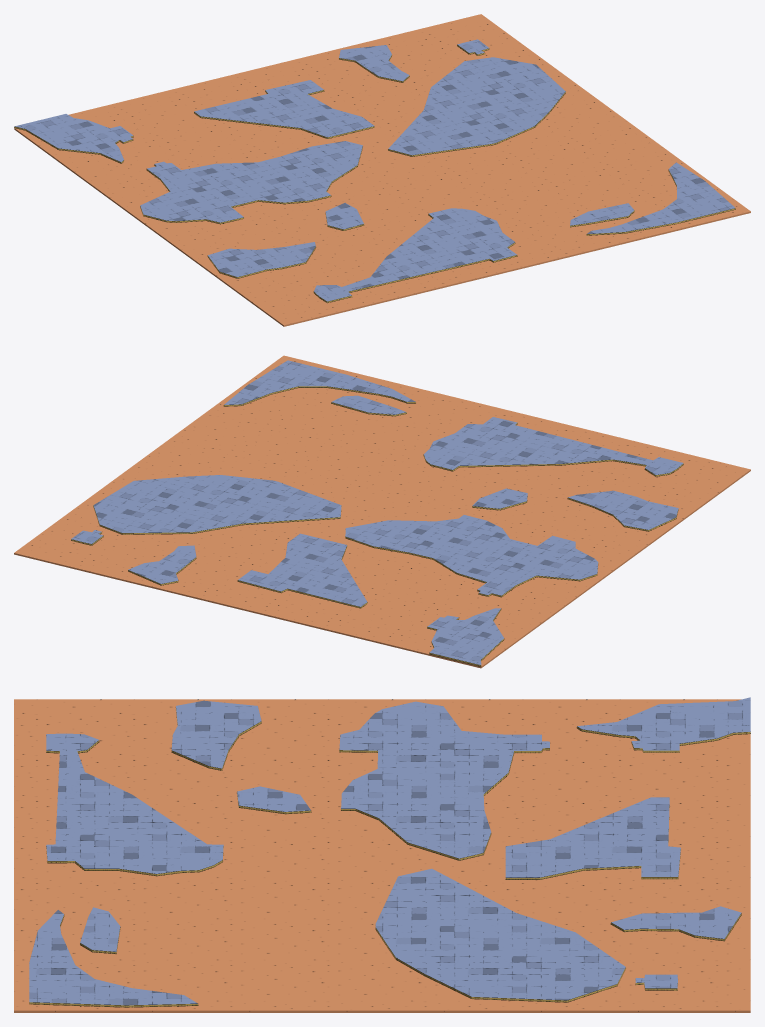
File: Floor_Tiles_Medium.glb
3 views of the same model, one above another, from view 1: azimuth 30°, elevation 25°; view 2: azimuth 150°, elevation 25°; view 3: azimuth 270°, elevation 25° (orthographic). The views are drawn at different scales.
Parts seen in each view (by area): view 1: Floor_Tiles_Medium; view 2: Floor_Tiles_Medium; view 3: Floor_Tiles_Medium.
Part boxes in pixels (x1,y1,x2,y2): Floor_Tiles_Medium: [14, 14, 750, 326]; Floor_Tiles_Medium: [14, 355, 750, 668]; Floor_Tiles_Medium: [14, 697, 750, 1012].
Bounding box in the file's own units: 23.95 × 0.1551 × 23.95.
Materials: 4 (4 with a texture image).
